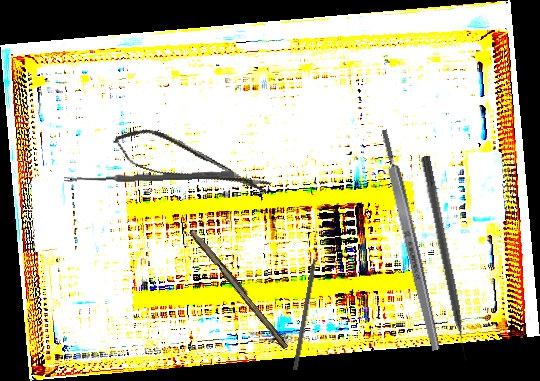Hook Surgical: (292, 243, 322, 371)
Micro Scissor: (109, 118, 275, 212)
Pusher: (418, 155, 471, 363)
Scalpel Handle: (377, 128, 443, 352), (186, 227, 293, 350)
Surgical Spoon: (63, 170, 235, 184)
